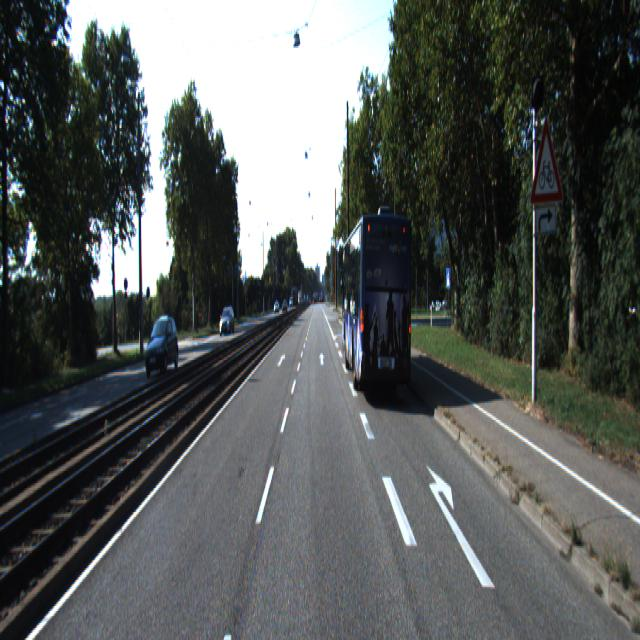Car: (342, 209, 414, 405), (144, 318, 180, 380), (218, 307, 236, 336)
